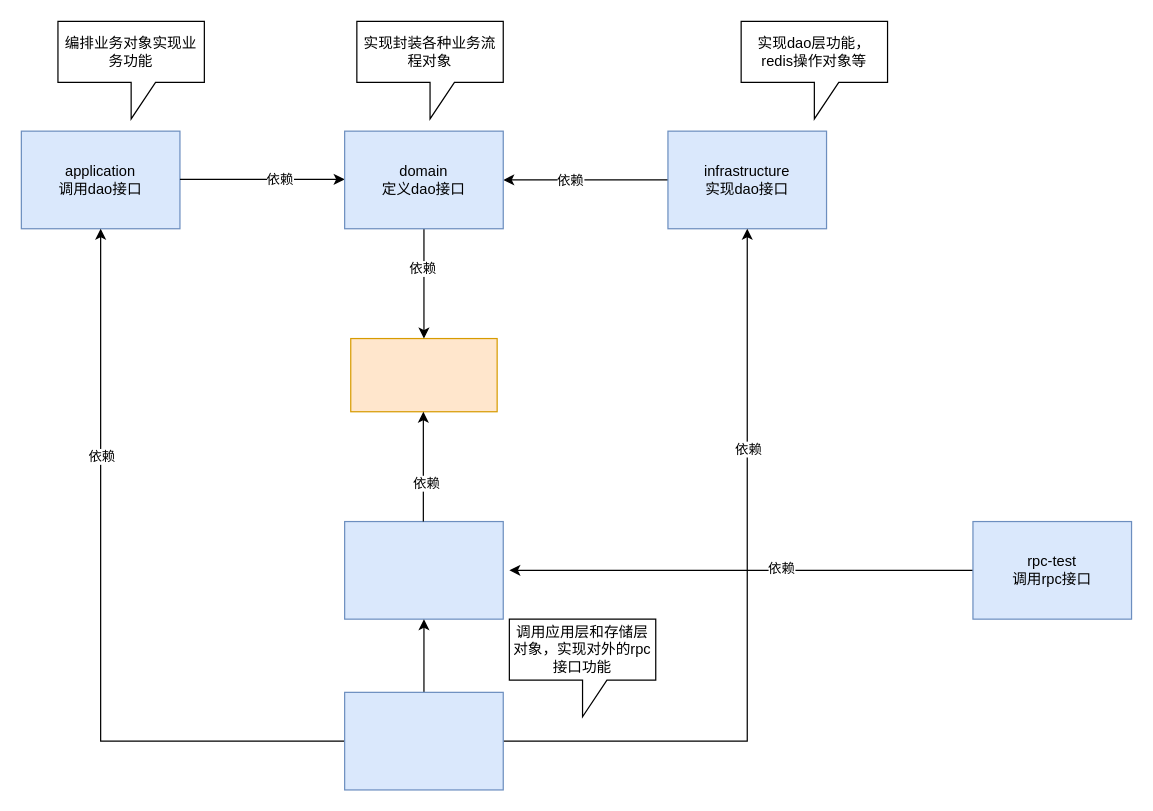
The diagram is 1153 pixels wide and 811 high, and some of its shapes have lost their labels. Each missing label, with the centre of its shape:
"common" belongs at point 423,374.
"interface 实现rpc接口(dubbo)" belongs at point 423,740.
"rpc 定义rpc接口" belongs at point 423,569.
